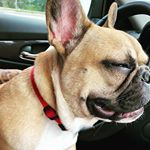puppy: (41, 1, 147, 135)
